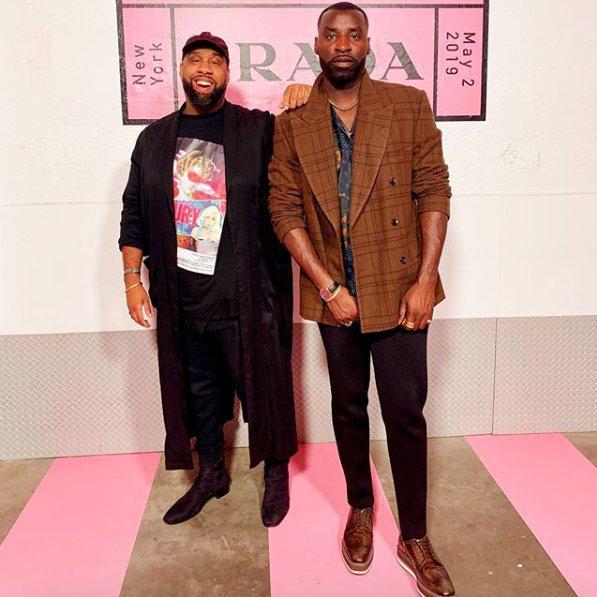Sober: (322, 13, 368, 72), (187, 44, 221, 101)
